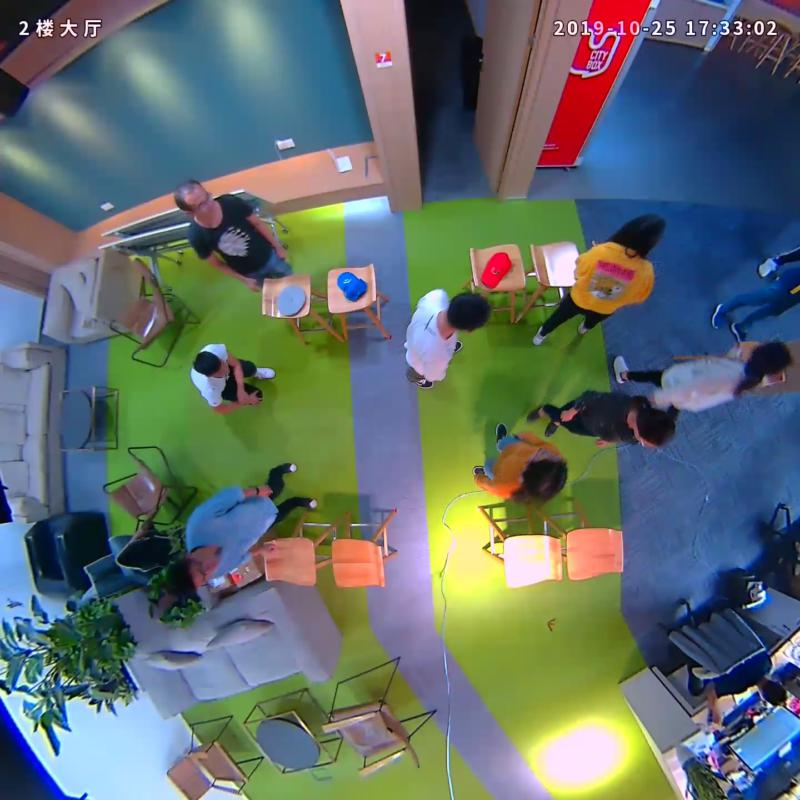head: (610, 209, 671, 261), (439, 287, 496, 342), (735, 336, 794, 389), (159, 549, 219, 601), (520, 446, 575, 500), (626, 403, 683, 453), (169, 176, 224, 223), (187, 346, 238, 389)
